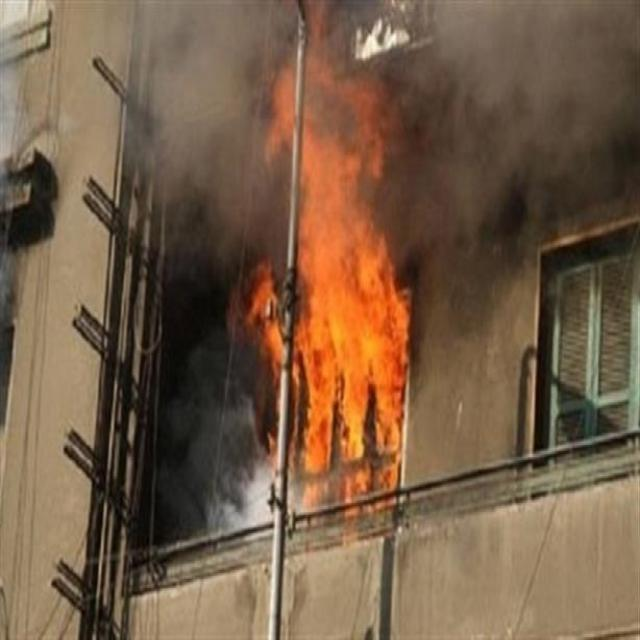Fire: (247, 51, 413, 516)
Smoke: (407, 6, 640, 239), (126, 1, 281, 252), (154, 342, 262, 524)
